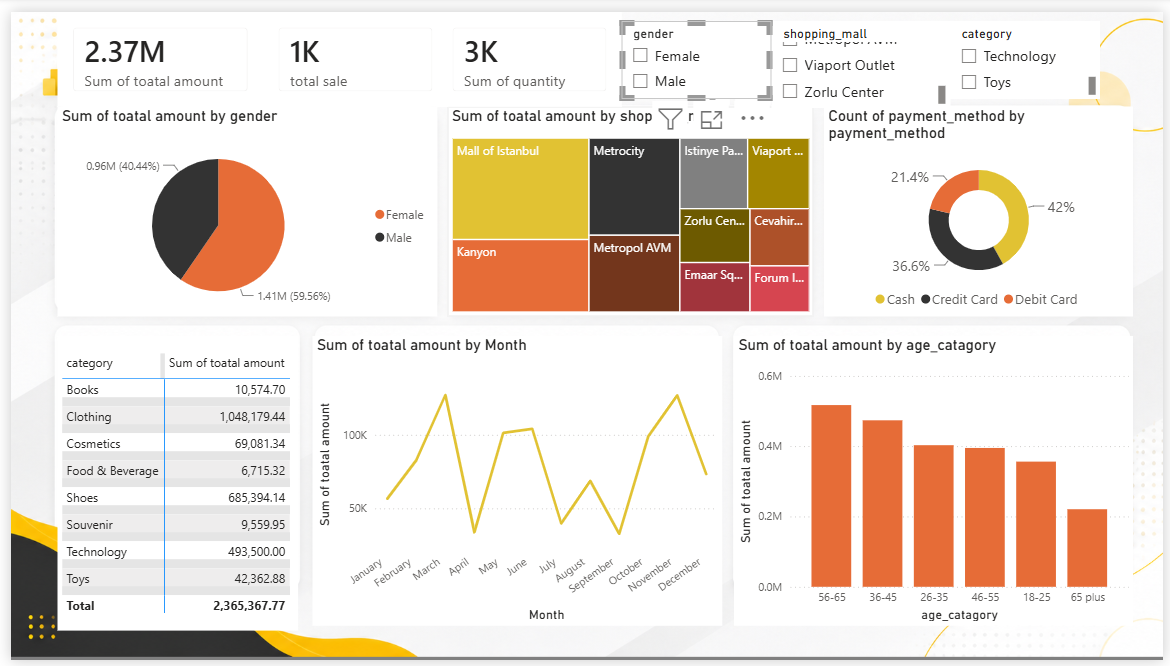

What the dashboard file says about the page in this screenshot:
{"tool":"powerbi","page":{"name":"Page 1","canvas":[1280,720],"ordinal":0},"visuals":[{"type":"pieChart","title":"Sales by Gender","fields":{"Category":["customer data.gender"],"Y":["Sum(customer data.toatal amount)"]},"box":[51.7,105,421.7,233.3],"z":0},{"type":"columnChart","title":"Sales by Age Category","fields":{"Category":["customer data.age_catagory"],"Y":["Sum(customer data.toatal amount)"]},"box":[488.3,105,401.7,233.3],"z":1000},{"type":"lineChart","title":"Monthly Sales Trend","fields":{"Y":["Sum(customer data.toatal amount)"],"Category":["customer data.invoice_date.Variation.Date Hierarchy.Month"]},"box":[801.7,360,445,326.7],"z":2000},{"type":"donutChart","title":"Payment Method","fields":{"Category":["customer data.payment_method"],"Y":["CountNonNull(customer data.payment_method)"]},"box":[903.3,105,343.3,233.3],"z":3000},{"type":"pivotTable","fields":{"Rows":["customer data.category"],"Values":["Sum(customer data.toatal amount)"]},"box":[51,360,267,327],"z":4000},{"type":"treemap","title":"Sales by Shopping mall","fields":{"Group":["customer data.shopping_mall"],"Values":["Sum(customer data.toatal amount)"]},"box":[335,360,458.3,326.7],"z":5000},{"type":"cardVisual","fields":{"Data":["Sum(customer data.toatal amount)"]},"box":[51.7,0,228.3,105],"z":6000},{"type":"cardVisual","fields":{"Data":["customer data.total sale"]},"box":[280,0,205,105],"z":7000},{"type":"cardVisual","fields":{"Data":["Sum(customer data.quantity)"]},"box":[473.9,0,204.4,104.5],"z":8000},{"type":"slicer","fields":{"Values":["customer data.gender"]},"box":[710,10,166.7,86.7],"z":9000},{"type":"slicer","fields":{"Values":["customer data.shopping_mall"]},"box":[876.7,10,198.4,86.3],"z":10000},{"type":"slicer","fields":{"Values":["customer data.category"]},"box":[1075,10,166.7,86.7],"z":11000},{"type":"actionButton","box":[0,0,100,40],"z":12000}]}

Visuals, with their boxes in screenshot pixels (x1, y1, x2, y2), scaled from the page's 1280x720 canvas onto the 1170x666 screenshot:
"Sales by Gender" pieChart: [47,97,433,313]
"Sales by Age Category" columnChart: [446,97,814,313]
"Monthly Sales Trend" lineChart: [733,333,1140,635]
"Payment Method" donutChart: [826,97,1139,313]
pivotTable - customer data.category x Sum(customer data.toatal amount): [47,333,291,635]
"Sales by Shopping mall" treemap: [306,333,725,635]
cardVisual - Sum(customer data.toatal amount): [47,0,256,97]
cardVisual - customer data.total sale: [256,0,443,97]
cardVisual - Sum(customer data.quantity): [433,0,620,97]
slicer - customer data.gender: [649,9,801,89]
slicer - customer data.shopping_mall: [801,9,983,89]
slicer - customer data.category: [983,9,1135,89]
actionButton: [0,0,91,37]
